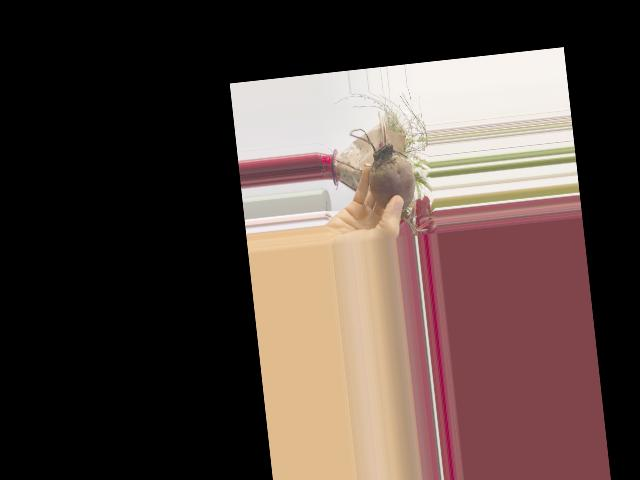beet: (349, 122, 427, 237)
